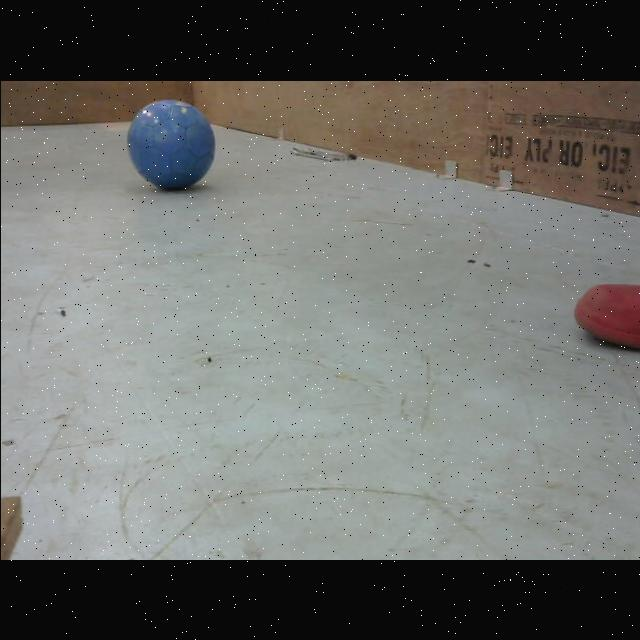B: (124, 95, 216, 189)
